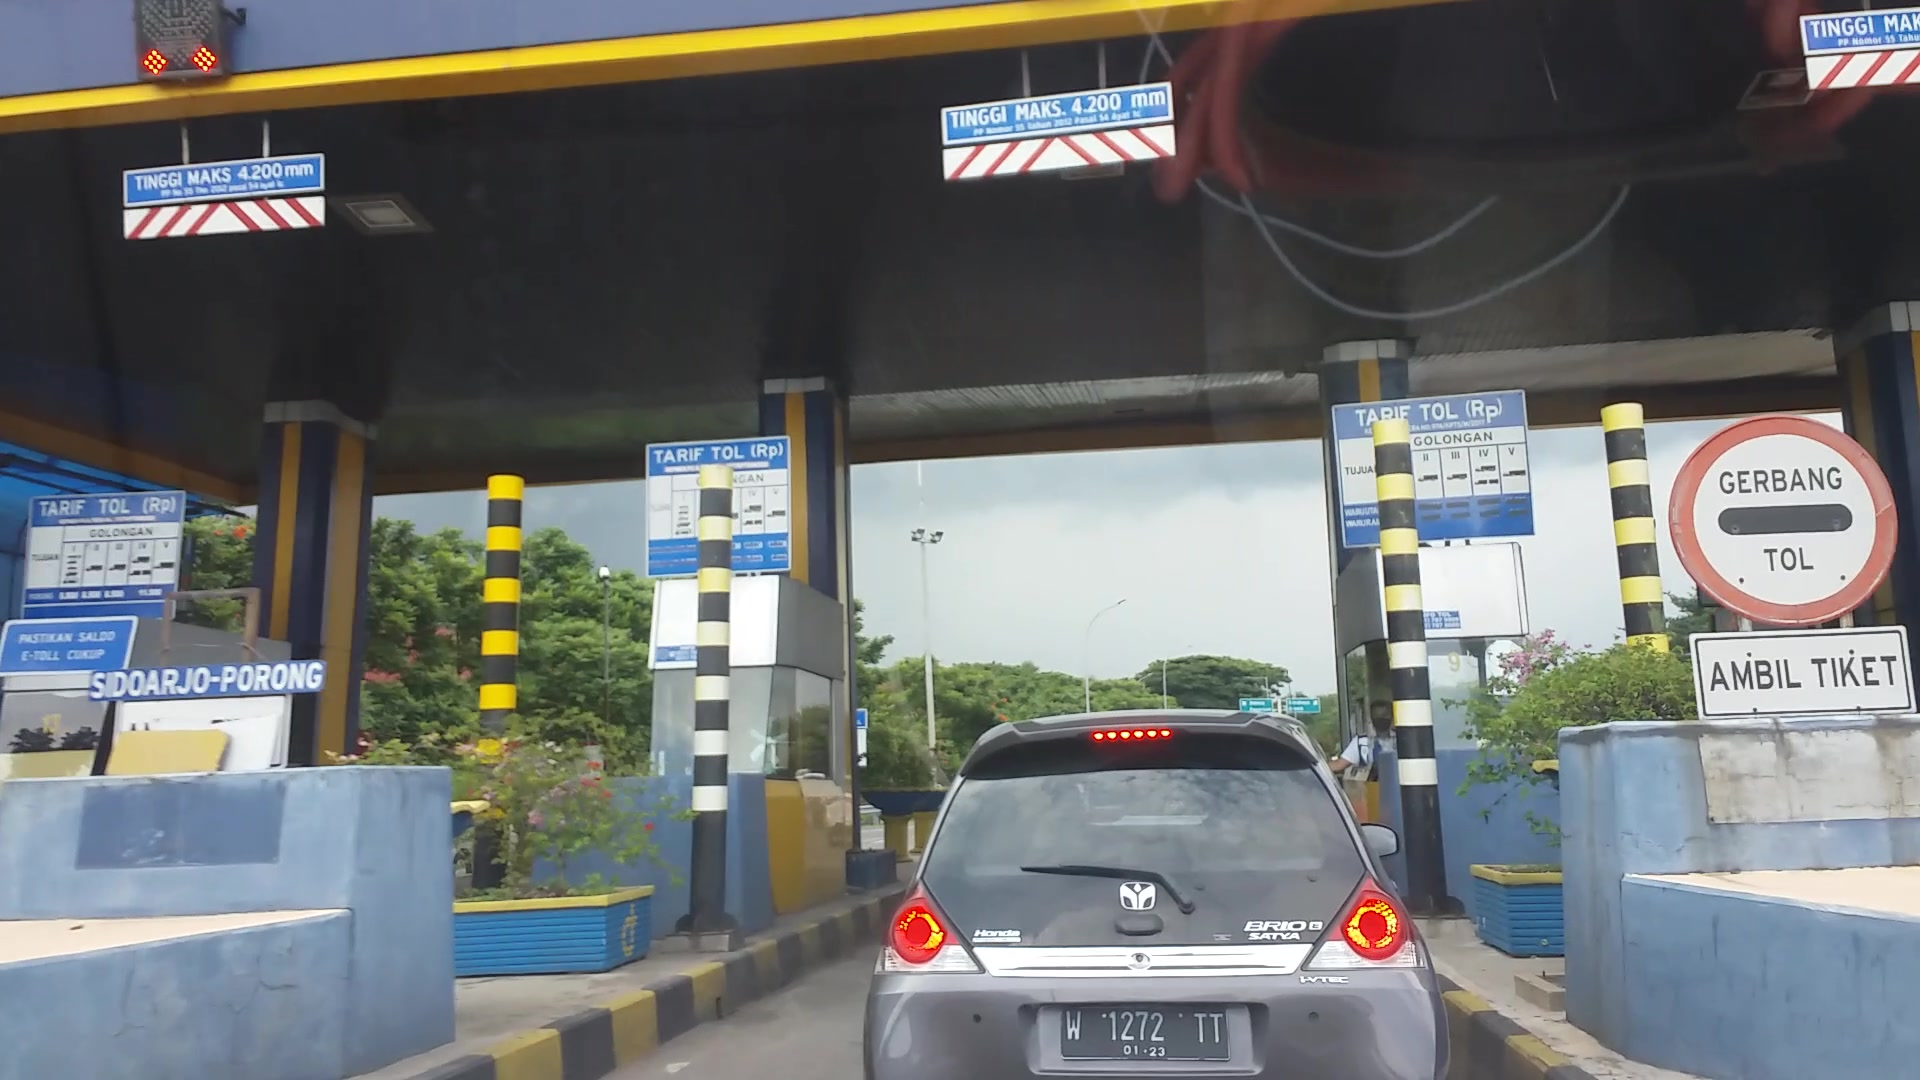plate_positive: (1060, 1005, 1230, 1060)
